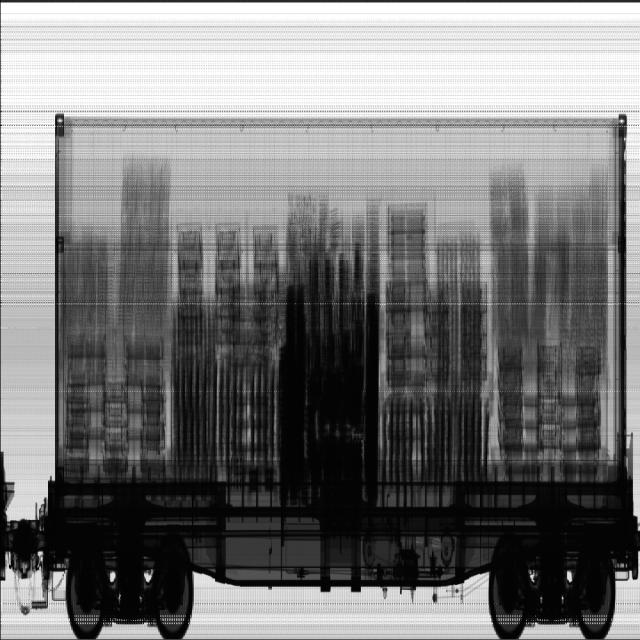auto parts: (171, 358, 277, 483), (382, 398, 494, 490)
bags: (59, 337, 166, 475), (177, 225, 281, 345), (498, 342, 601, 462), (383, 283, 489, 389)
spare parts: (280, 252, 380, 481)
